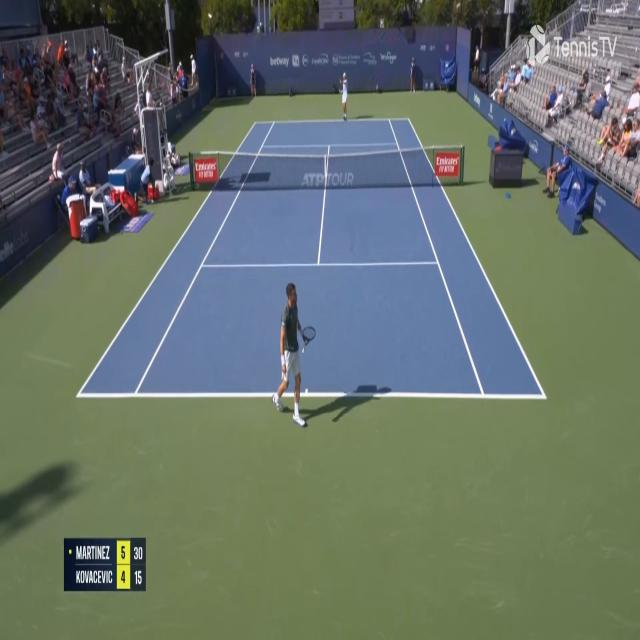tennis-player: (270, 278, 317, 430), (332, 70, 350, 123)
